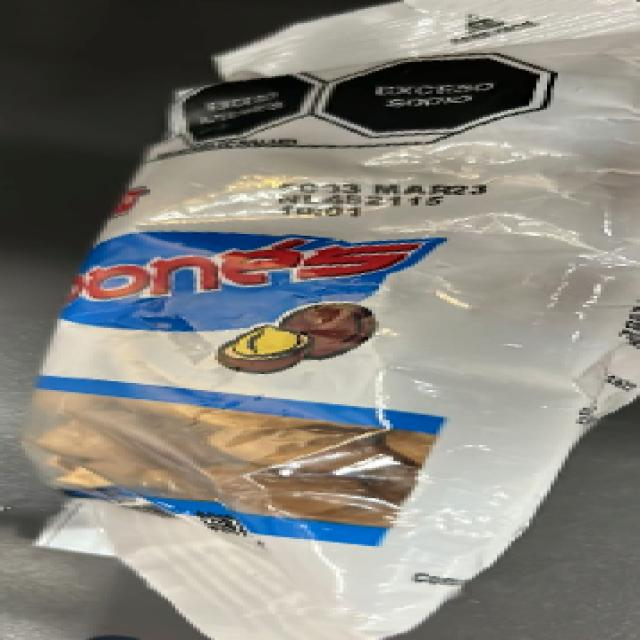leoCacahuates: (74, 85, 584, 547)
